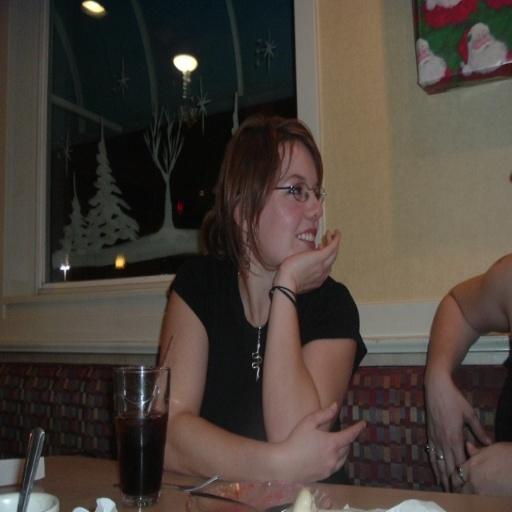hand: (265, 393, 371, 483), (425, 373, 493, 496), (271, 227, 342, 296), (451, 438, 511, 498)
